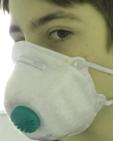with_mask: (2, 2, 113, 141)
